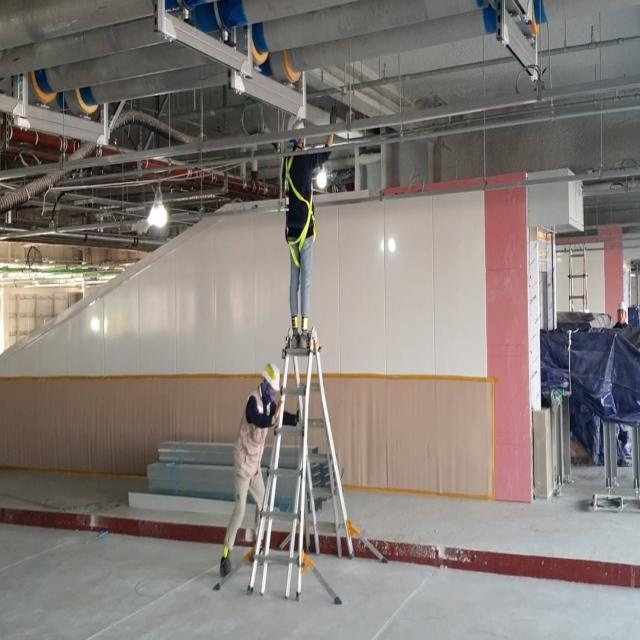Arnes_seguridad: (283, 150, 316, 268)
